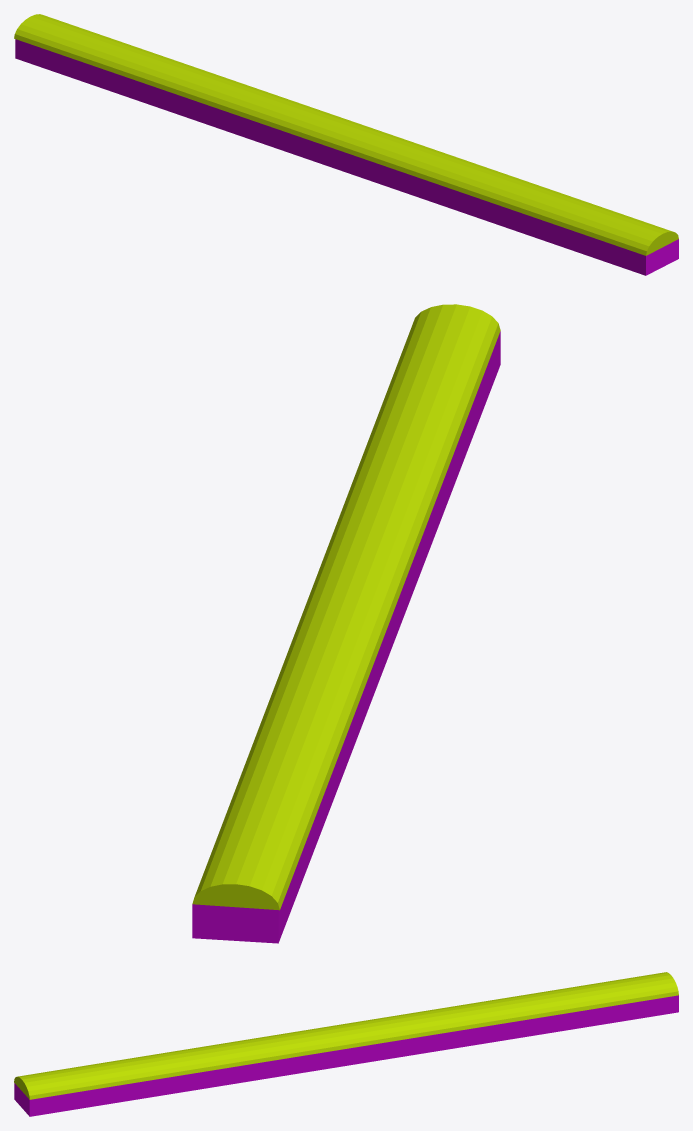
3 renders of one model, top to bottom at view 1: azimuth 30°, elevation 25°; view 2: azimuth 150°, elevation 25°; view 3: azimuth 270°, elevation 25°, orthographic. The views are drawn at different scales.
Visible parts, largest first — view 1: sc_10; view 2: sc_10; view 3: sc_10.
Part boxes in pixels (x1,y1,x2,y2): sc_10: (14, 14, 678, 275); sc_10: (192, 304, 500, 943); sc_10: (14, 972, 678, 1116).
Bounding box in the file's own units: 49.92 × 5.44 × 115.
